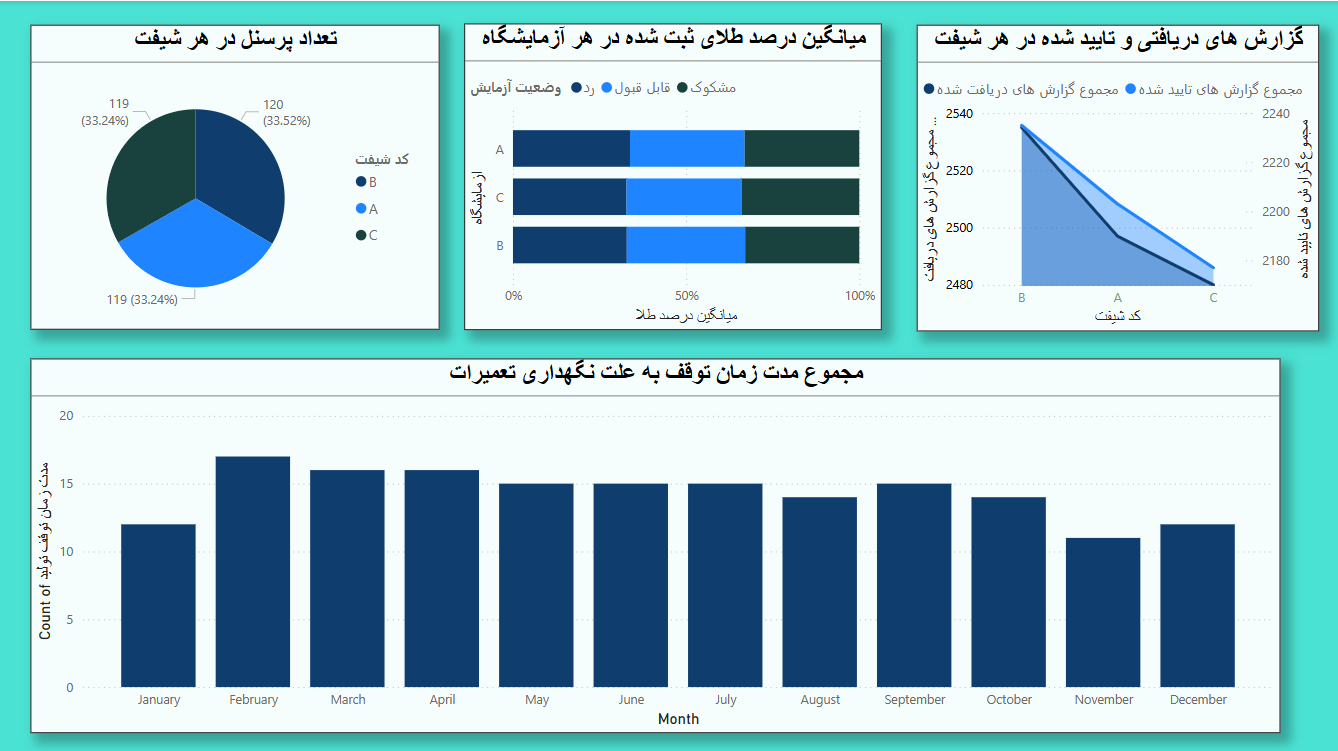

The dashboard page shown, as its layout file describes it:
{"tool":"powerbi","page":{"name":"مدیر برنامه ریزی ","canvas":[1280,720],"ordinal":2},"visuals":[{"type":"hundredPercentStackedBarChart","title":"میانگین درصد طلای ثبت شده در هر آزمایشگاه","fields":{"Category":["تحلیل شیمیایی.ازمایشگاه"],"Y":["تحلیل شیمیایی.میانگین درصد طلا"],"Series":["تحلیل شیمیایی.وضعیت آزمایش"]},"box":[444,21.4,397.6,291.7],"z":0},{"type":"areaChart","title":"گزارش های دریافتی و تایید شده در هر شیفت ","fields":{"Category":["گزارش شیفت.کد شیفت"],"Y":["گزارش شیفت.مجموع گزارش های دریافت شده"],"Y2":["گزارش شیفت.مجموع گزارش های تایید شده"]},"box":[875,22.6,383.3,291.7],"z":1000},{"type":"clusteredColumnChart","title":"مجموع مدت زمان توقف به علت نگهداری تعمیرات ","fields":{"Category":["نگهداری تعمیرات.تاریخ درخواست.Variation.Date Hierarchy.Month","نگهداری تعمیرات.تاریخ درخواست.Variation.Date Hierarchy.Day"],"Y":["CountNonNull(نگهداری تعمیرات.مدت زمان توقف تولید)"]},"box":[31,340.5,1190.5,357.1],"z":3000},{"type":"pieChart","title":"تعداد پرسنل در هر شیفت ","fields":{"Category":["گزارش شیفت.کد شیفت"],"Y":["CountNonNull(گزارش شیفت.تعداد پرسنل)"]},"box":[31,22.6,389.3,290.5],"z":4000}]}

Visuals, with their boxes in screenshot pixels (x1, y1, x2, y2), scaled from the page's 1280x720 canvas onto the 1338x751 screenshot:
"میانگین درصد طلای ثبت شده در هر آزمایشگاه" hundredPercentStackedBarChart: rect(464, 22, 880, 327)
"گزارش های دریافتی و تایید شده در هر شیفت " areaChart: rect(915, 24, 1315, 328)
"مجموع مدت زمان توقف به علت نگهداری تعمیرات " clusteredColumnChart: rect(32, 355, 1277, 728)
"تعداد پرسنل در هر شیفت " pieChart: rect(32, 24, 439, 327)
